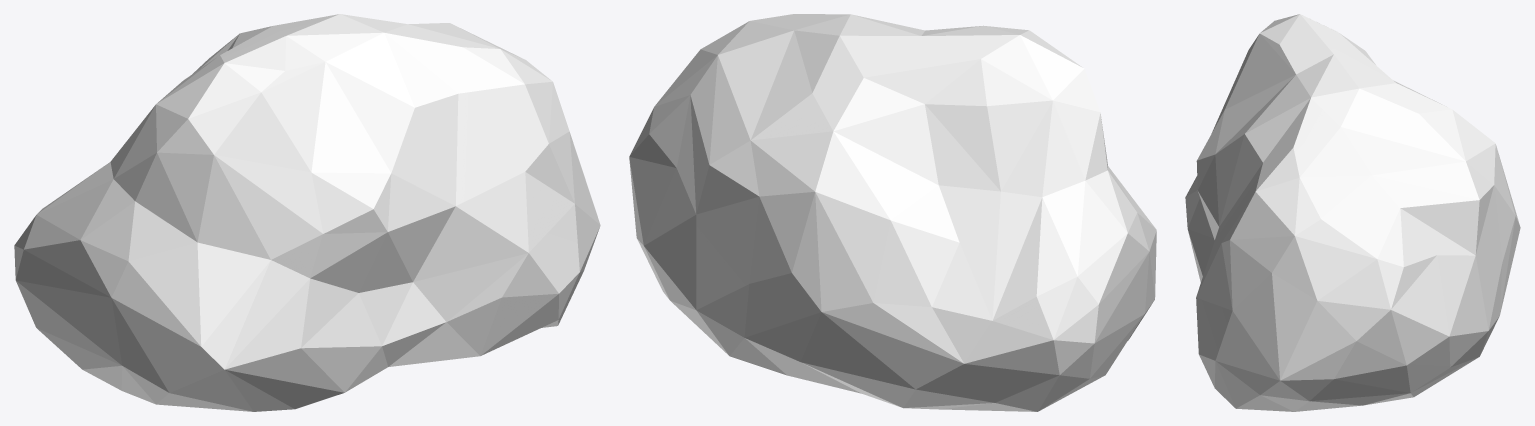
Rendered from Cloud_04.fbx.
3 renders of one model, left to right at view 1: azimuth 30°, elevation 25°; view 2: azimuth 150°, elevation 25°; view 3: azimuth 270°, elevation 25°, orthographic. The views are drawn at different scales.
Visible parts, largest first — view 1: Cloud_04; view 2: Cloud_04; view 3: Cloud_04.
Part boxes in pixels (x1,y1,x2,y2): Cloud_04: (14, 14, 600, 411); Cloud_04: (629, 14, 1156, 411); Cloud_04: (1185, 14, 1520, 411).
Bounding box in the file's own units: 3.38 × 2.11 × 2.22.
